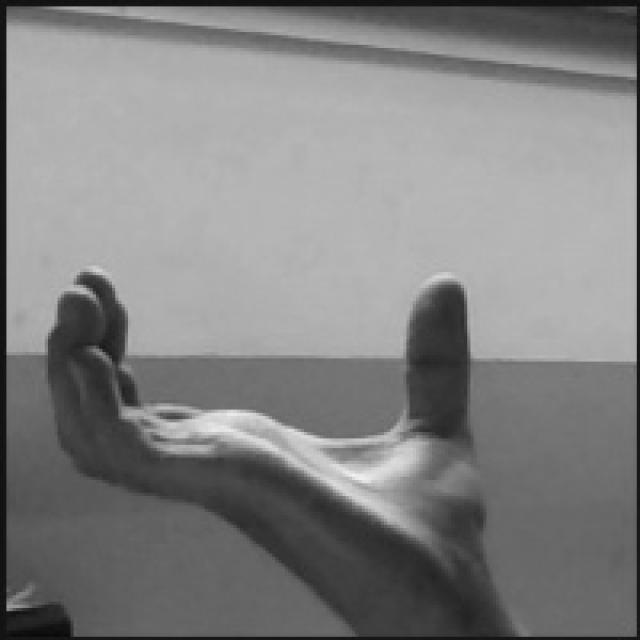space: (48, 268, 487, 590)
